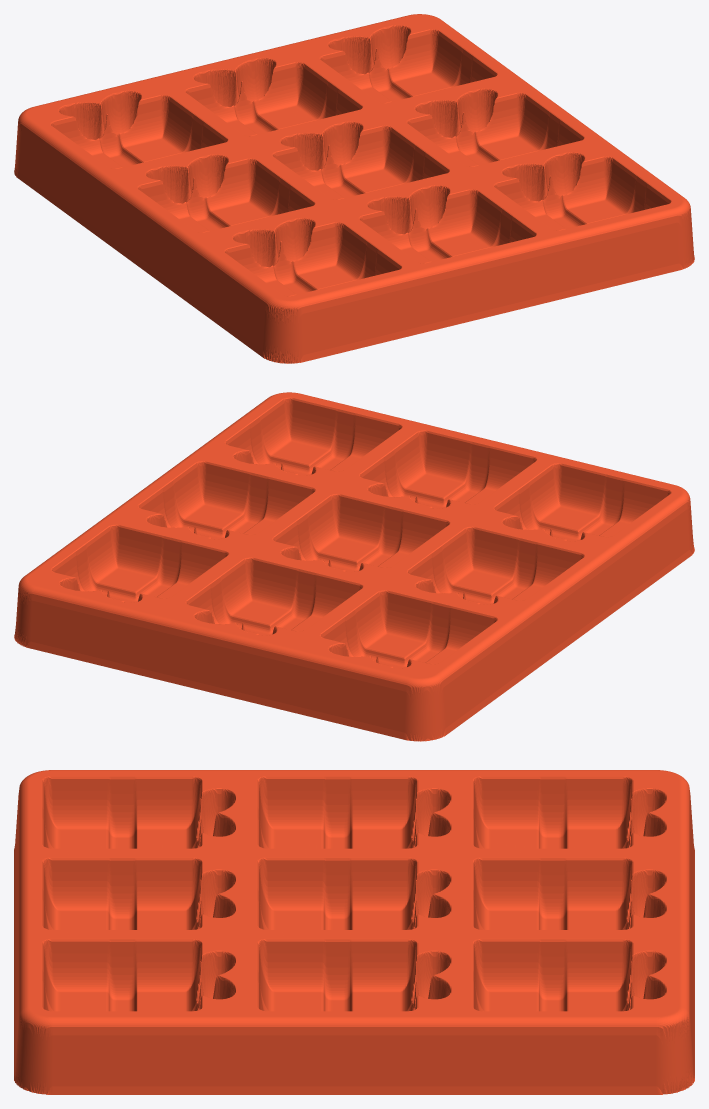
Rendered from mold.glb.
The picture shows the model from 3 angles, top to bottom: view 1: azimuth 30°, elevation 25°; view 2: azimuth 150°, elevation 25°; view 3: azimuth 270°, elevation 25°; orthographic projection. The views are drawn at different scales.
Parts seen in each view (by area): view 1: geometry_0; view 2: geometry_0; view 3: geometry_0.
Boxes of the visible parts, x1,y1,x2,y2 form: geometry_0: (14,14,694,363); geometry_0: (14,392,694,741); geometry_0: (14,770,694,1094).
Size of the model in its own units: 0.1435 by 0.0185 by 0.1595.
